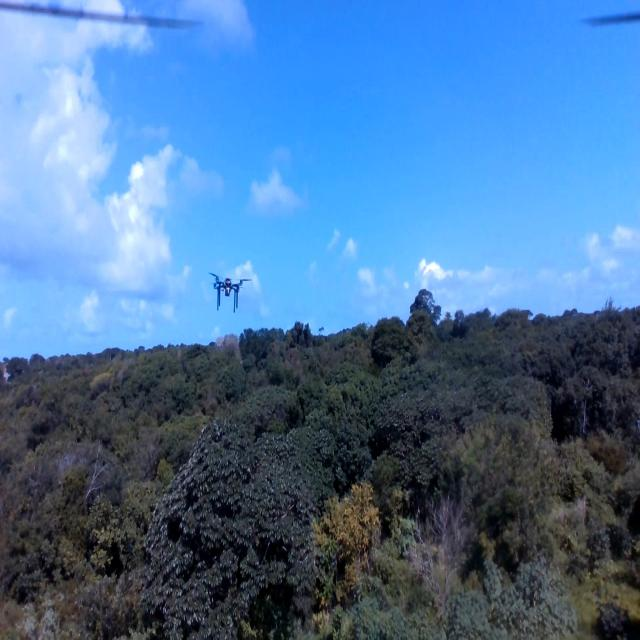-uav-: (205, 267, 255, 314)
